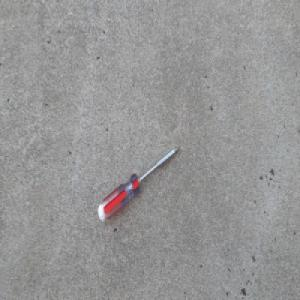Screwdriver: (96, 143, 181, 222)
